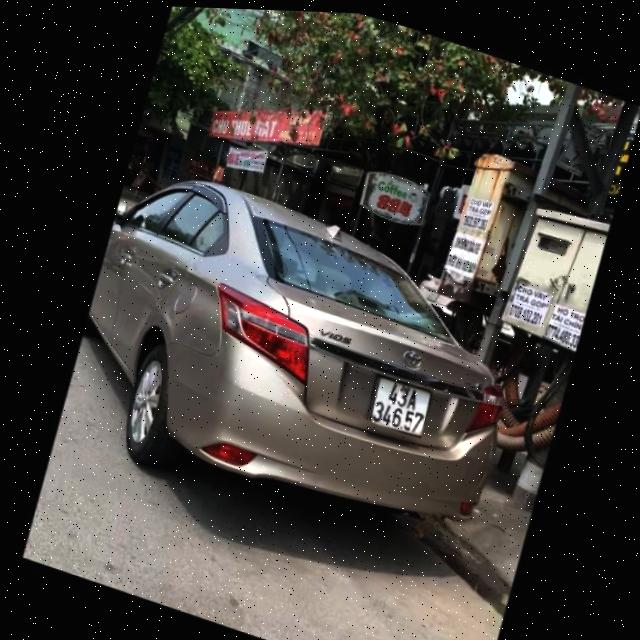car: (40, 142, 549, 580)
plate: (356, 364, 441, 446)
